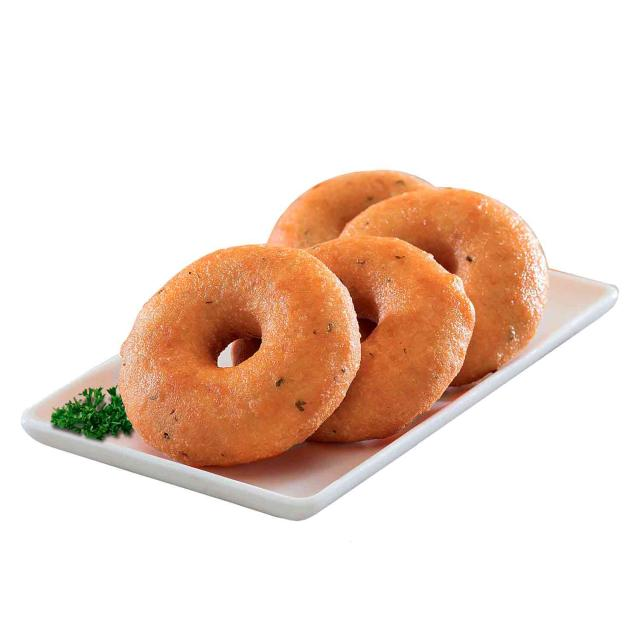MEDU VADA: (118, 242, 359, 466), (339, 188, 550, 389), (305, 234, 479, 444), (267, 171, 437, 250)
